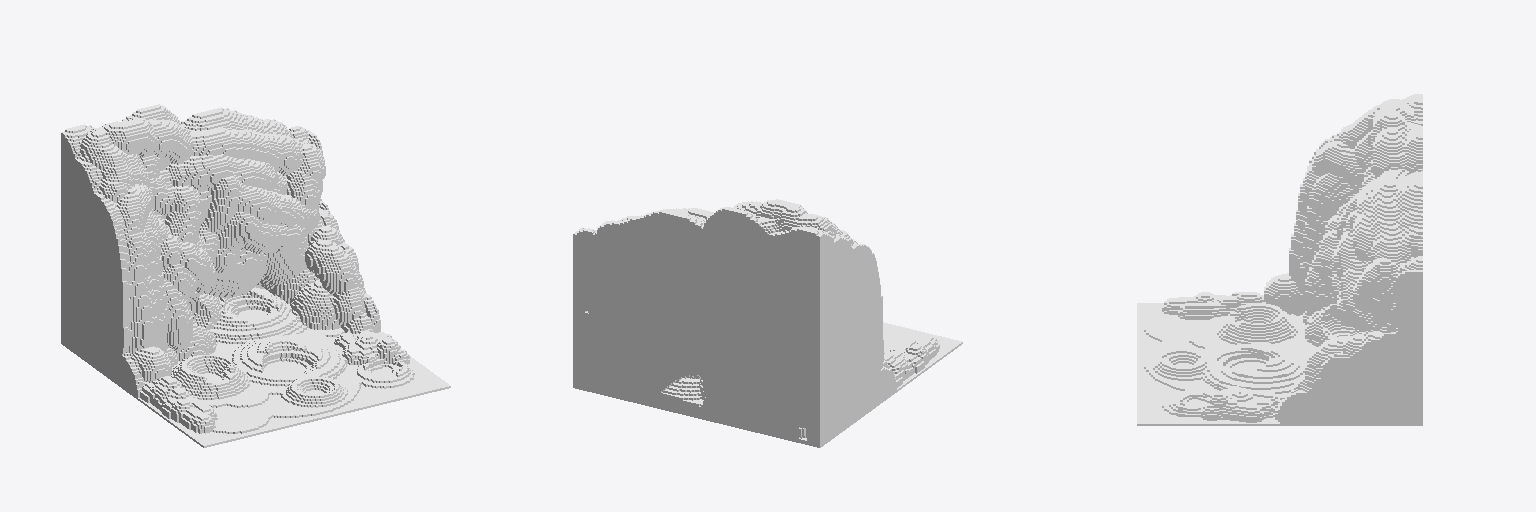
File: Ext_LunarBorder10.obj
The picture shows the model from 3 angles: view 1: azimuth 30°, elevation 25°; view 2: azimuth 150°, elevation 25°; view 3: azimuth 270°, elevation 25°; orthographic projection.
Bounding box in the file's own units: 126 × 107 × 126.